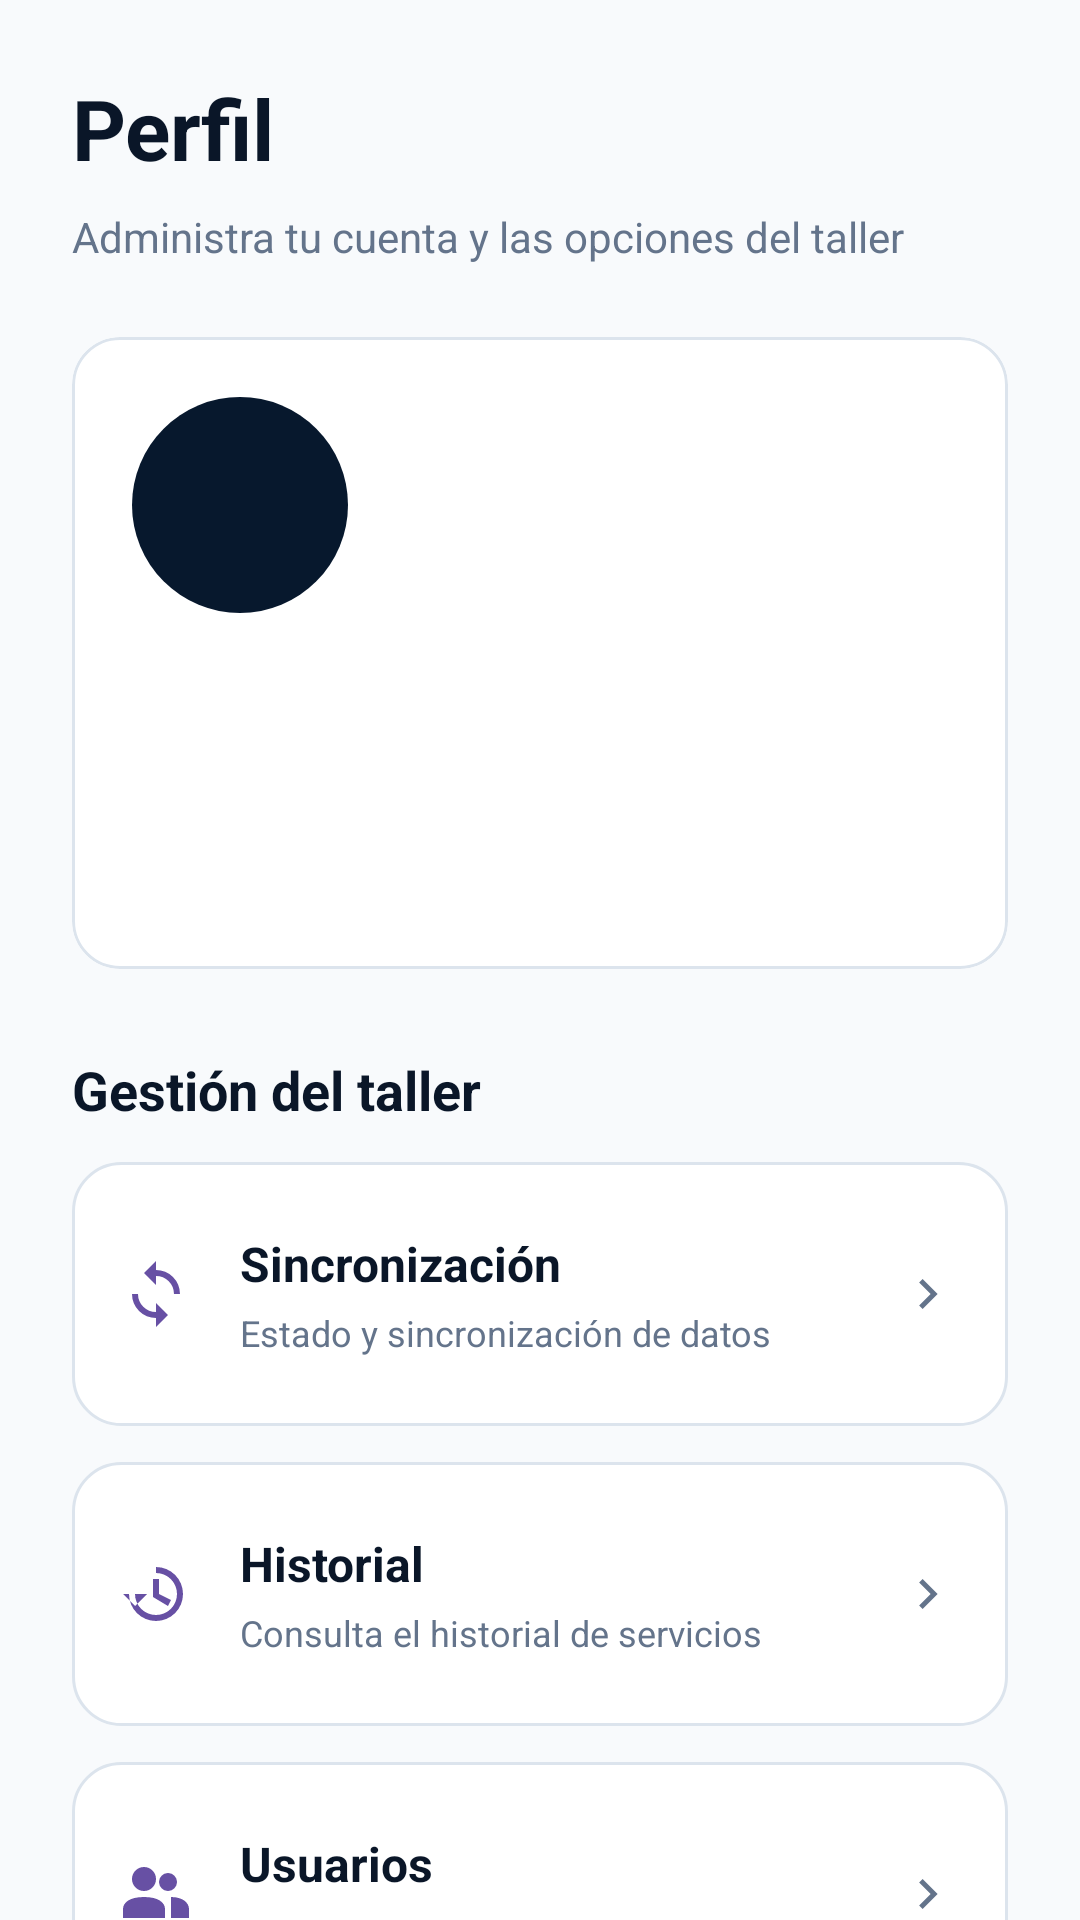

Locate icon controls on the screen. Image size 1080w x 1920h, boxes as [left=x1, top=y1, right=x2, bottom=y2].
profile chevron: [left=919, top=1279, right=938, bottom=1309], [left=919, top=1579, right=938, bottom=1609], [left=919, top=1879, right=938, bottom=1909]
profile history: [left=123, top=1567, right=183, bottom=1621]
profile sync: [left=132, top=1261, right=180, bottom=1327]
